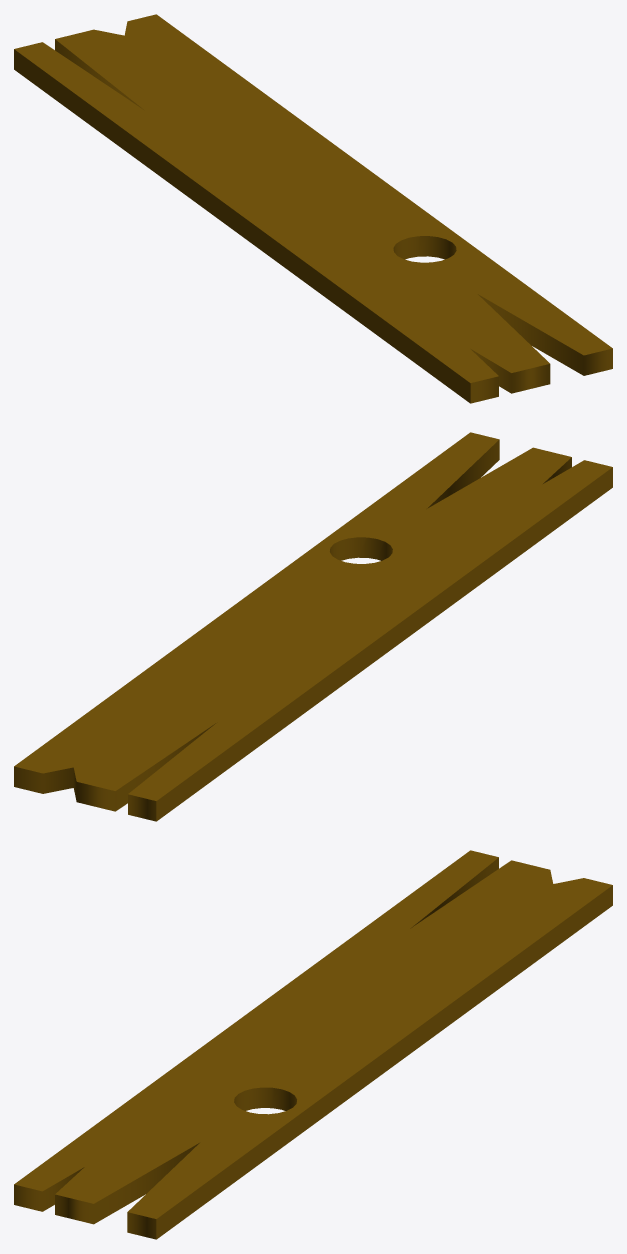
Rendered from damagedPlank1.fbx.
The picture shows the model from 3 angles, top to bottom: view 1: azimuth 30°, elevation 25°; view 2: azimuth 150°, elevation 25°; view 3: azimuth 330°, elevation 25°; orthographic projection.
Parts seen in each view (by area): view 1: pCube2; view 2: pCube2; view 3: pCube2.
Boxes of the visible parts, <box> form: pCube2: <box>14,14,612,403</box>; pCube2: <box>14,432,612,821</box>; pCube2: <box>14,850,612,1239</box>.
Size of the model in its own units: 0.6462 by 0.0888 by 3.59.
